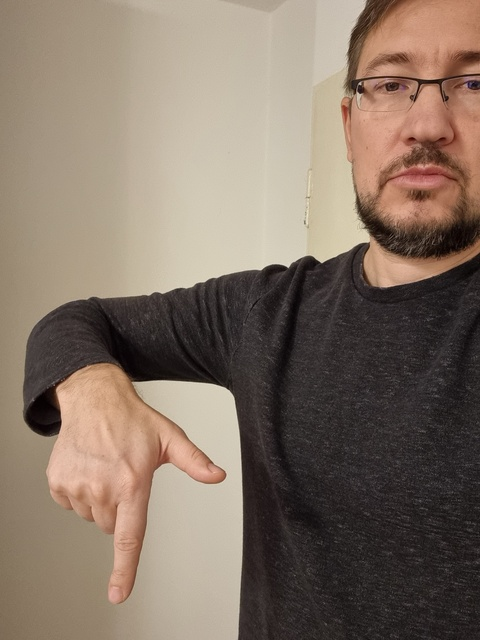GestDown: (47, 427, 226, 604)
